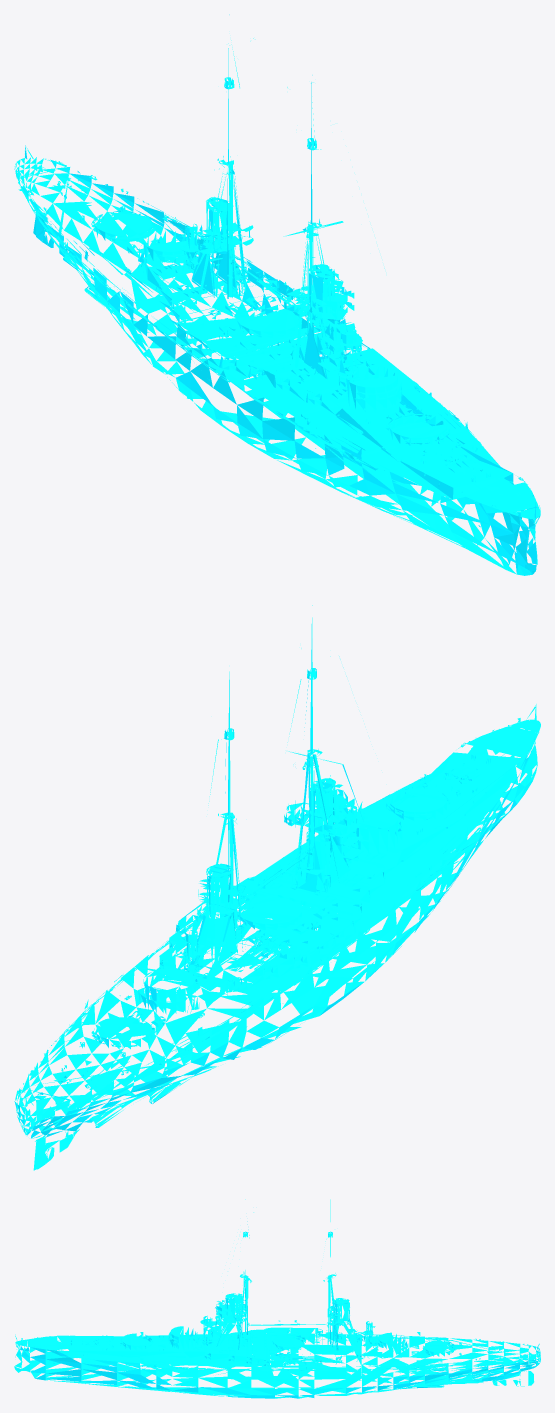
The model's file is Conte_di_Cavour.glb.
3 renders of one model, top to bottom at view 1: azimuth 30°, elevation 25°; view 2: azimuth 150°, elevation 25°; view 3: azimuth 270°, elevation 25°, orthographic. The views are drawn at different scales.
Size of the model in its own units: 1.87 by 4.63 by 11.74.
